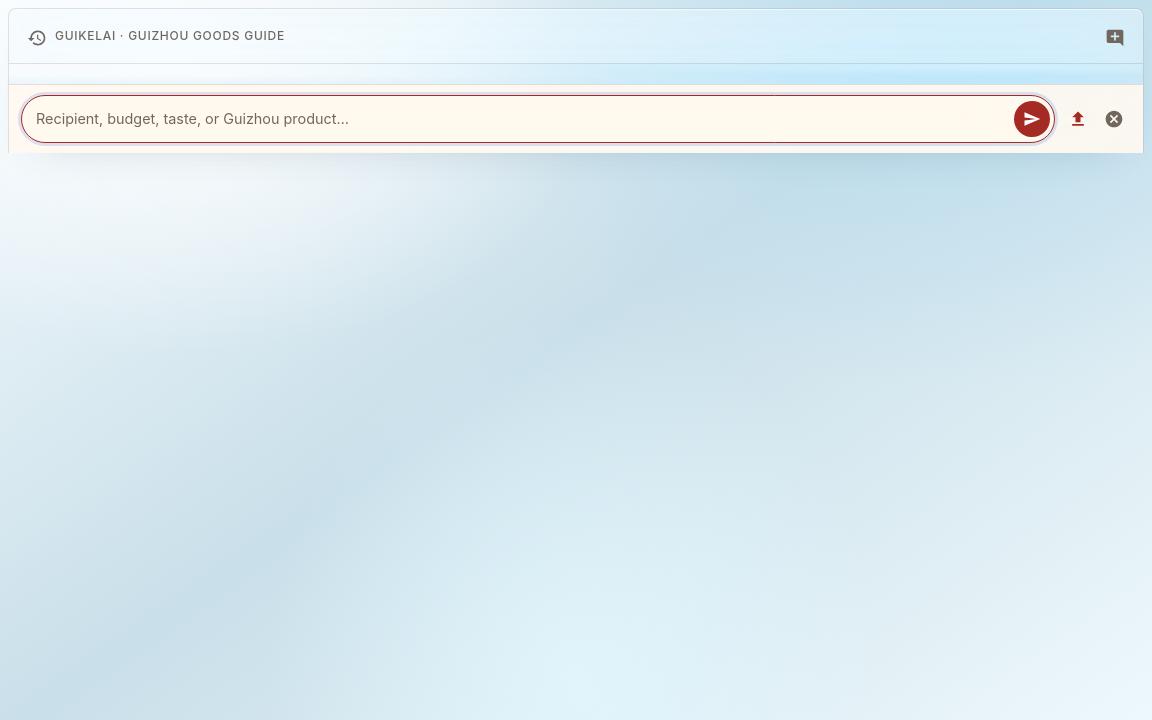
Scenario: Chatbox session history › deletes a session from history
Click the button named "History" at [37, 36], box [23, 20, 51, 52]
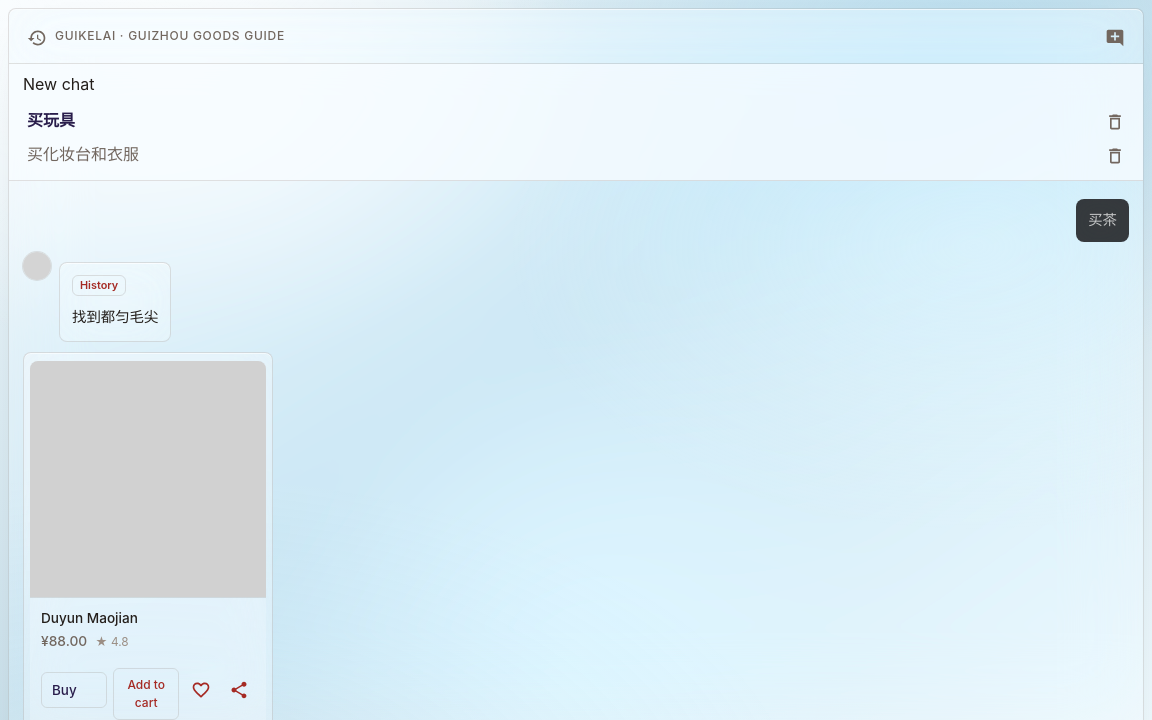
Click the button named "Delete 买玩具" at [1115, 120], box [1101, 104, 1129, 136]
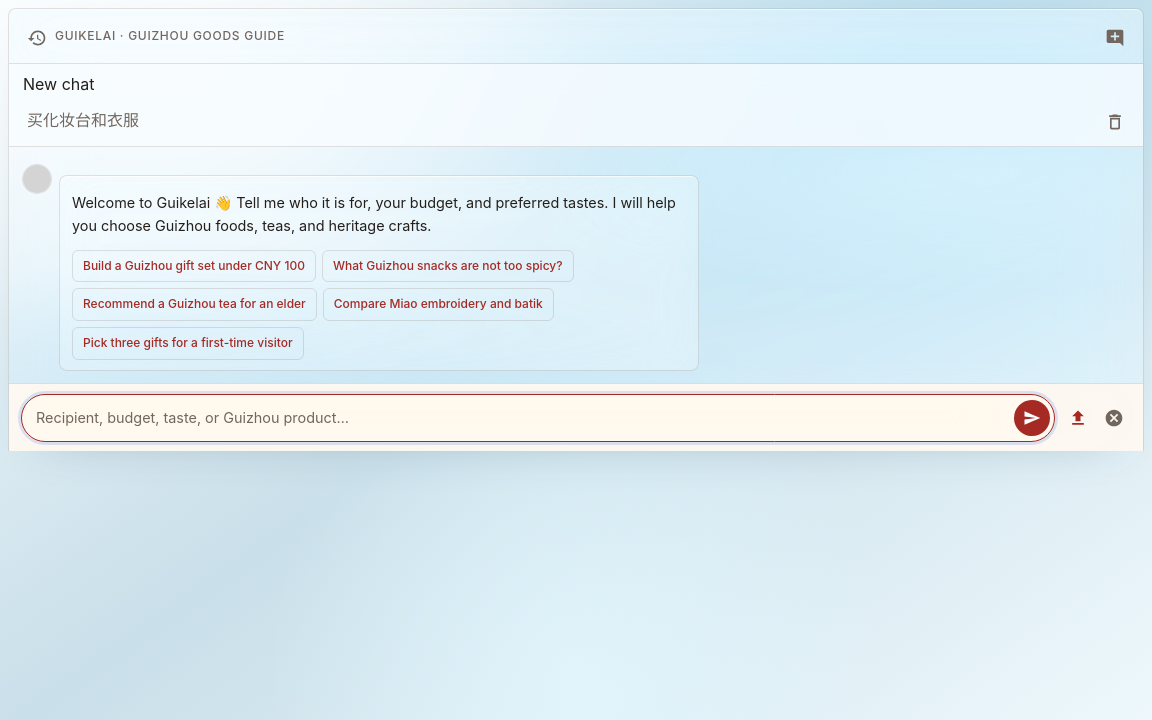
Expected: the button "买玩具" is gone
